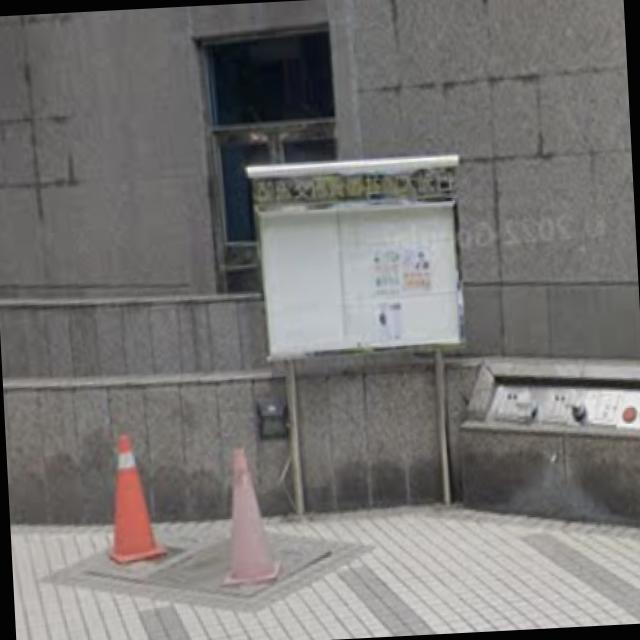cone: (218, 446, 278, 580), (109, 427, 161, 564)
